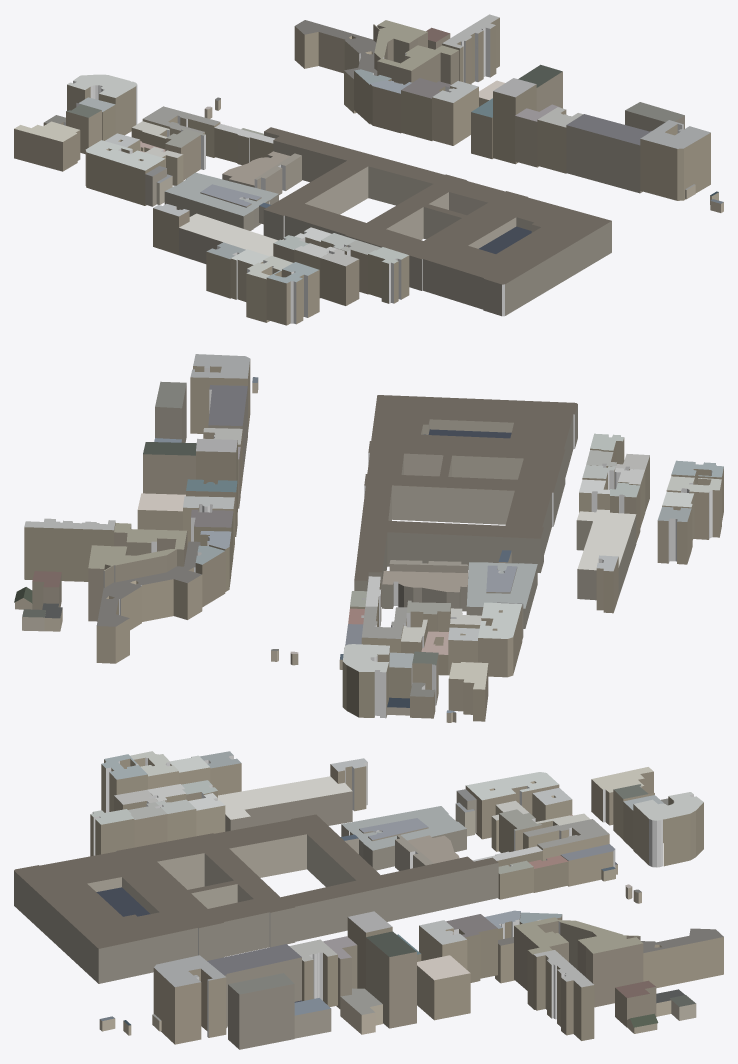
The picture shows the model from 3 angles, top to bottom: view 1: azimuth 30°, elevation 25°; view 2: azimuth 150°, elevation 25°; view 3: azimuth 270°, elevation 25°; orthographic projection. The views are drawn at different scales.
Parts seen in each view (by area): view 1: tuile; view 2: tuile; view 3: tuile.
Boxes of the visible parts, x1,y1,x2,y2 form: tuile: (14,14,723,325); tuile: (14,354,723,722); tuile: (14,751,723,1049).
Bounding box in the file's own units: 267 × 37.78 × 306.
